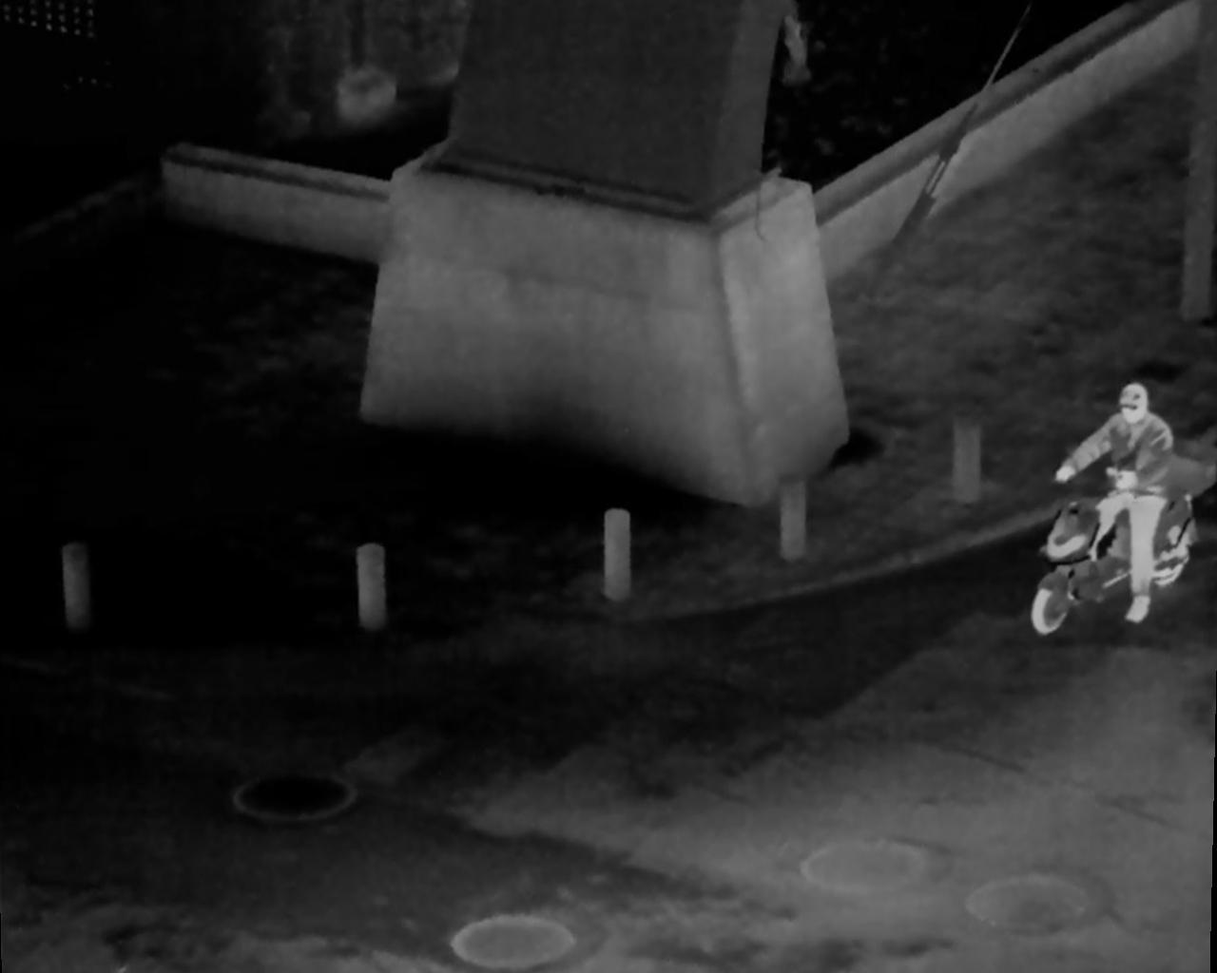person: (1066, 380, 1180, 639)
